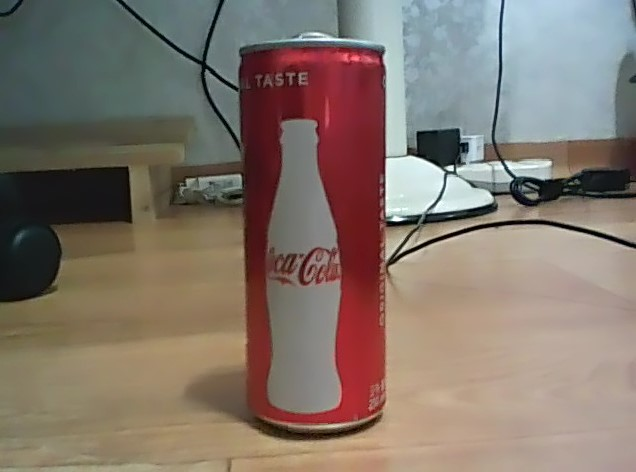Can: (233, 32, 395, 436)
